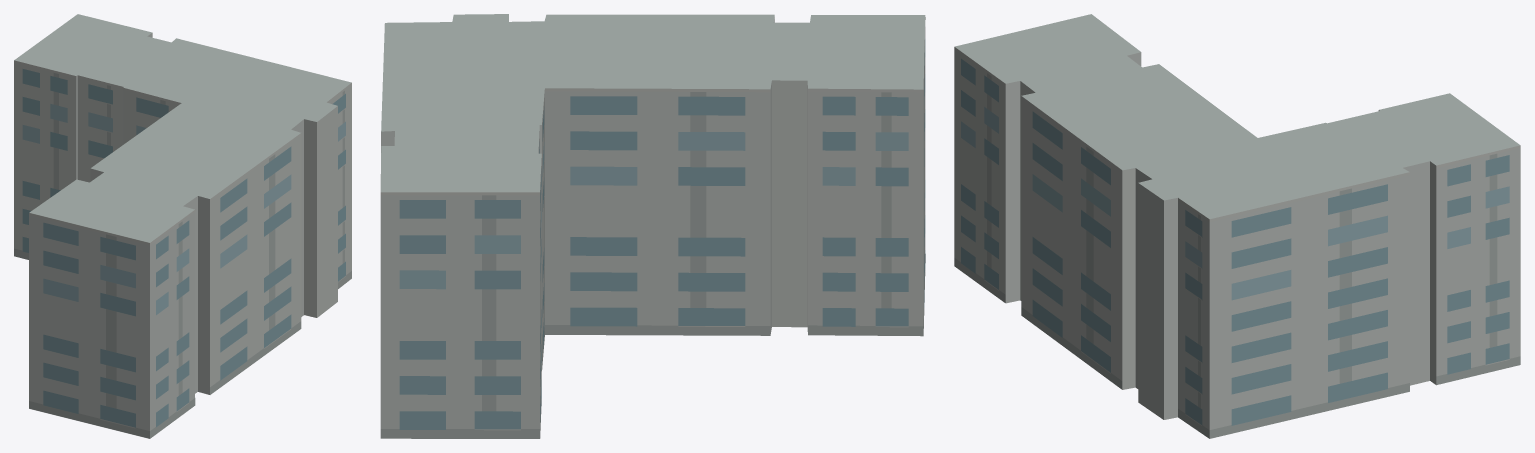
Rendered from survey-upis-32721925.glb.
The picture shows the model from 3 angles, left to right: view 1: azimuth 30°, elevation 25°; view 2: azimuth 150°, elevation 25°; view 3: azimuth 270°, elevation 25°; orthographic projection. The views are drawn at different scales.
Visible parts, largest first — view 1: survey-upis-32721925.tmp; view 2: survey-upis-32721925.tmp; view 3: survey-upis-32721925.tmp.
Part boxes in pixels (bbox=[...]): survey-upis-32721925.tmp: bbox=[14, 14, 351, 438]; survey-upis-32721925.tmp: bbox=[380, 14, 925, 438]; survey-upis-32721925.tmp: bbox=[954, 14, 1520, 438].
Bounding box in the file's own units: 40.41 × 20.15 × 47.09.
